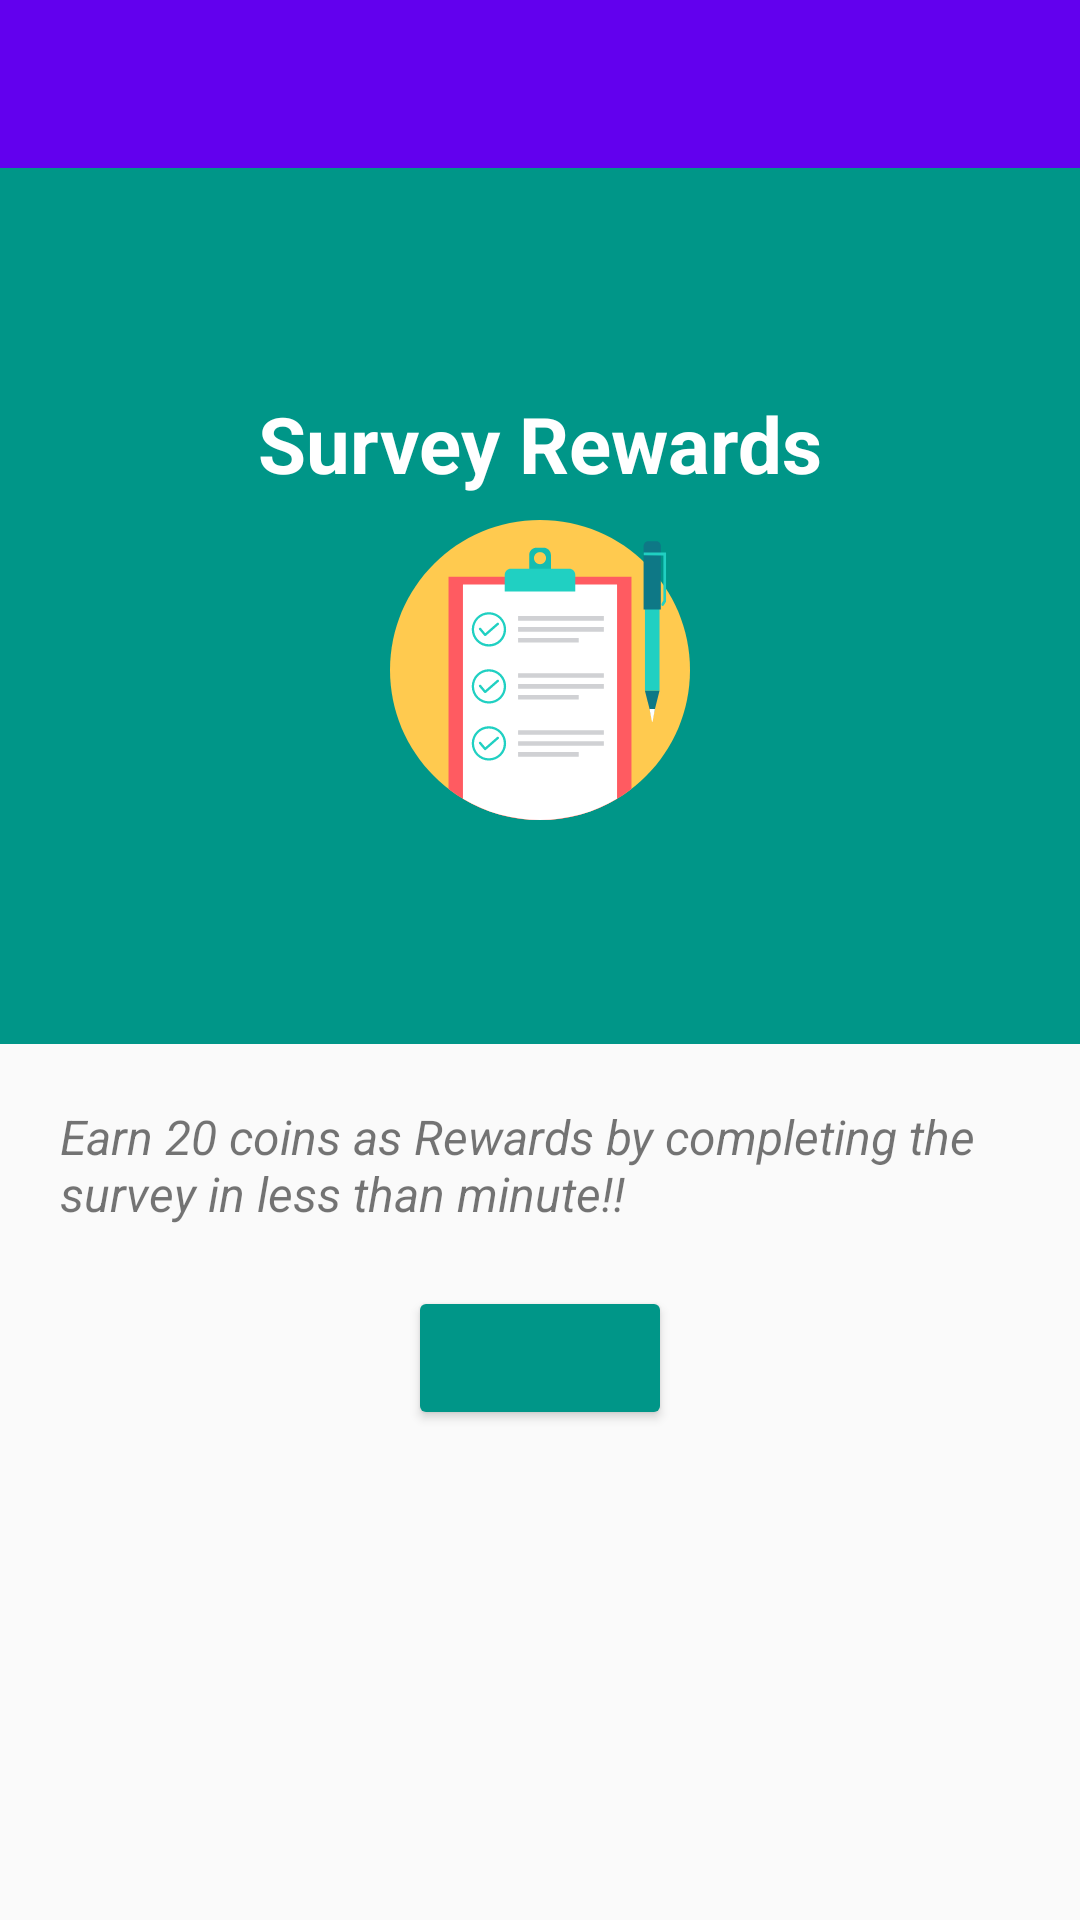

Locate icon controls on the screen. Image size 1080px x 1920px, boxes as (x1, y1, x2, y2).
notepad: (390, 520, 690, 820)
